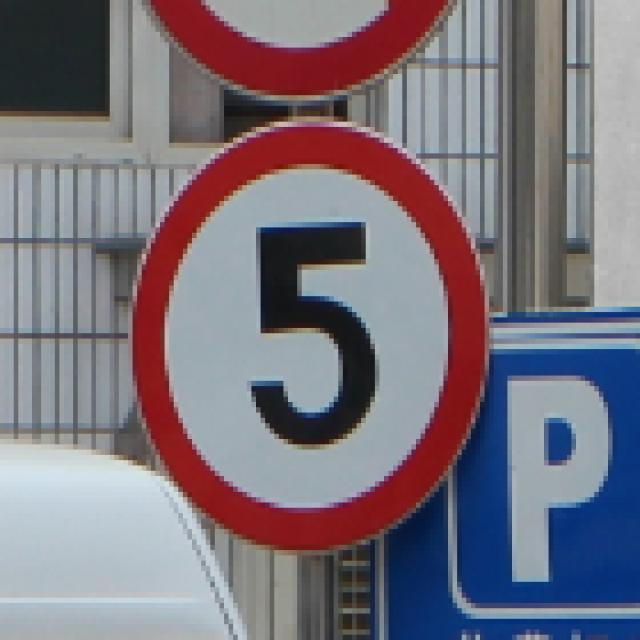Speed: (110, 88, 540, 560)
